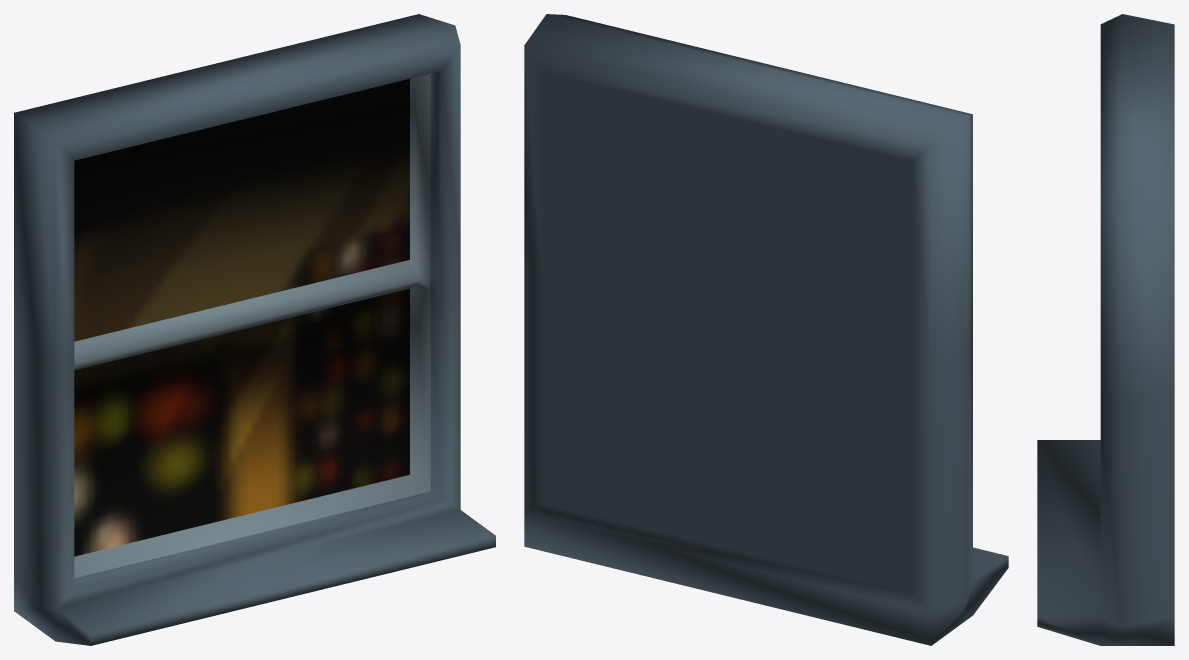
File: Window_everywhere_v1.fbx
3 renders of one model, left to right at view 1: azimuth 30°, elevation 25°; view 2: azimuth 150°, elevation 25°; view 3: azimuth 270°, elevation 25°, orthographic. The views are drawn at different scales.
Parts seen in each view (by area): view 1: Cube; view 2: Cube; view 3: Cube.
Boxes of the visible parts, left/top/right/bottom form: Cube: left=14, top=14, right=495, bottom=645; Cube: left=524, top=14, right=1008, bottom=645; Cube: left=1037, top=14, right=1174, bottom=645.
Bounding box in the file's own units: 95.69 × 111 × 30.43.
